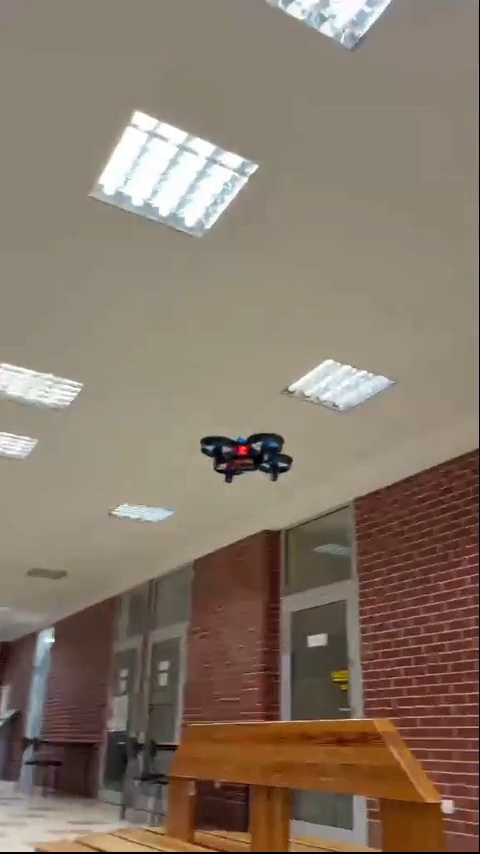drone: (200, 432, 288, 483)
